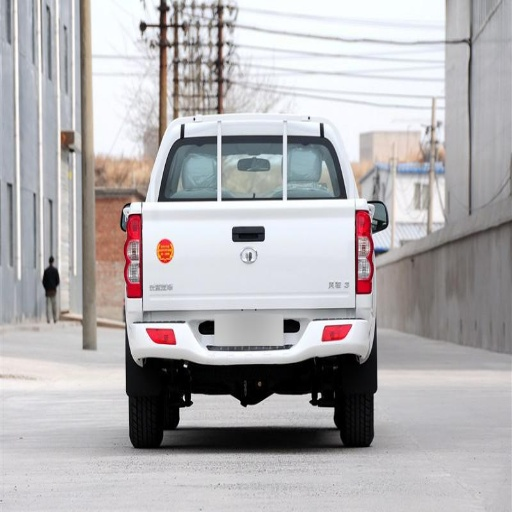back_bumper: (124, 305, 375, 367)
trunk: (133, 200, 358, 317)
